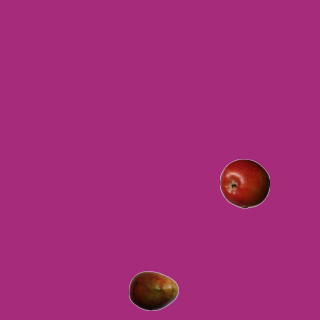Apple Braeburn: (219, 158, 269, 208)
Mango Red: (128, 265, 178, 315)
